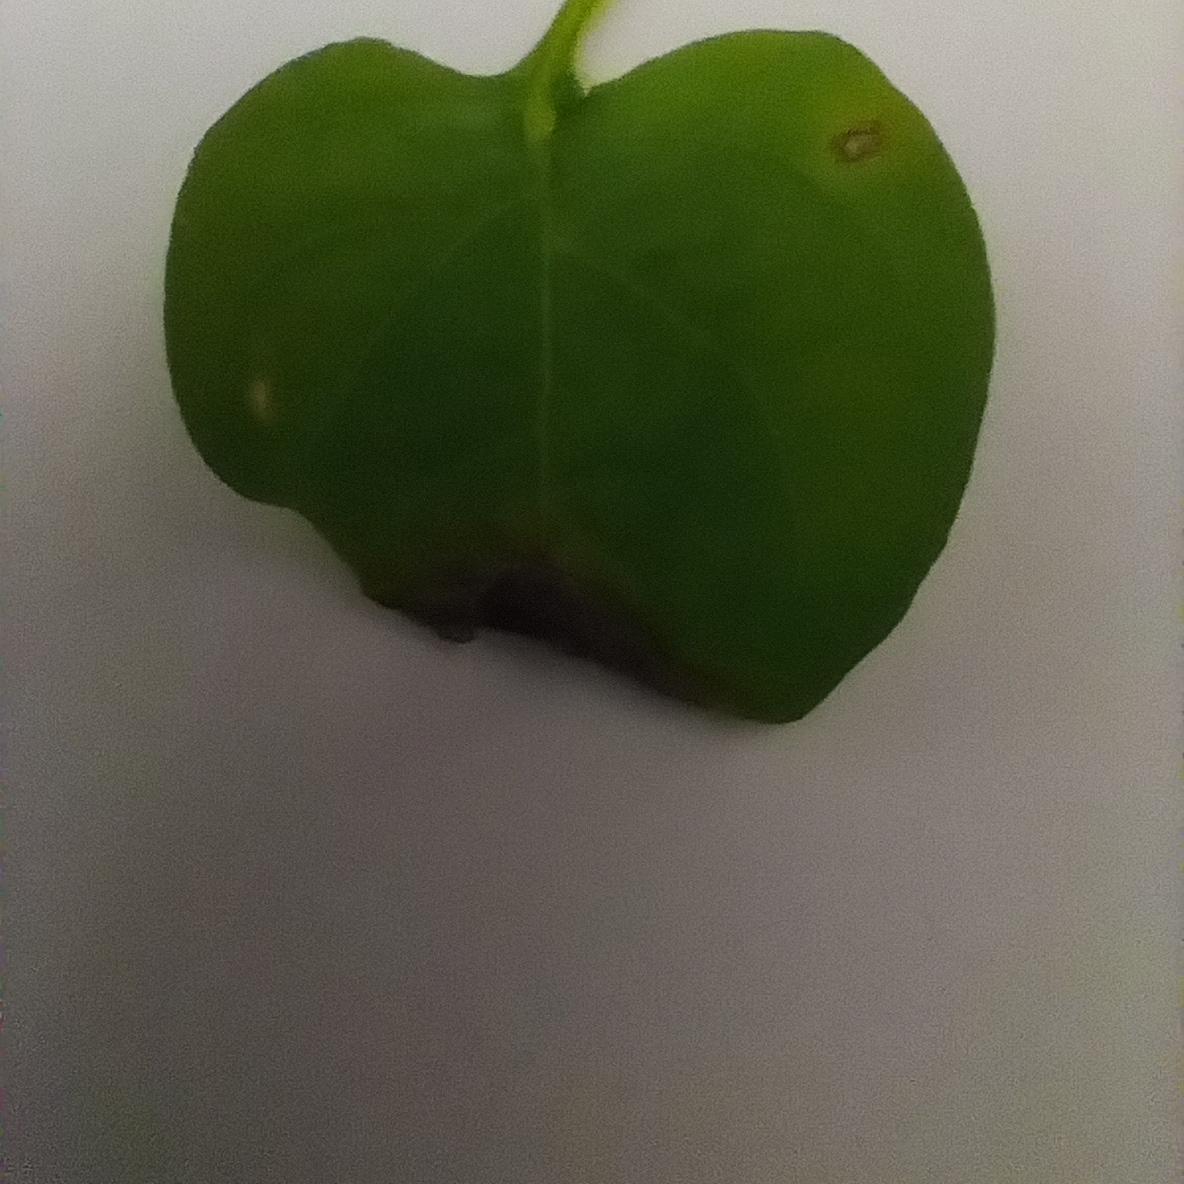Leaf: (113, 14, 1064, 826)
